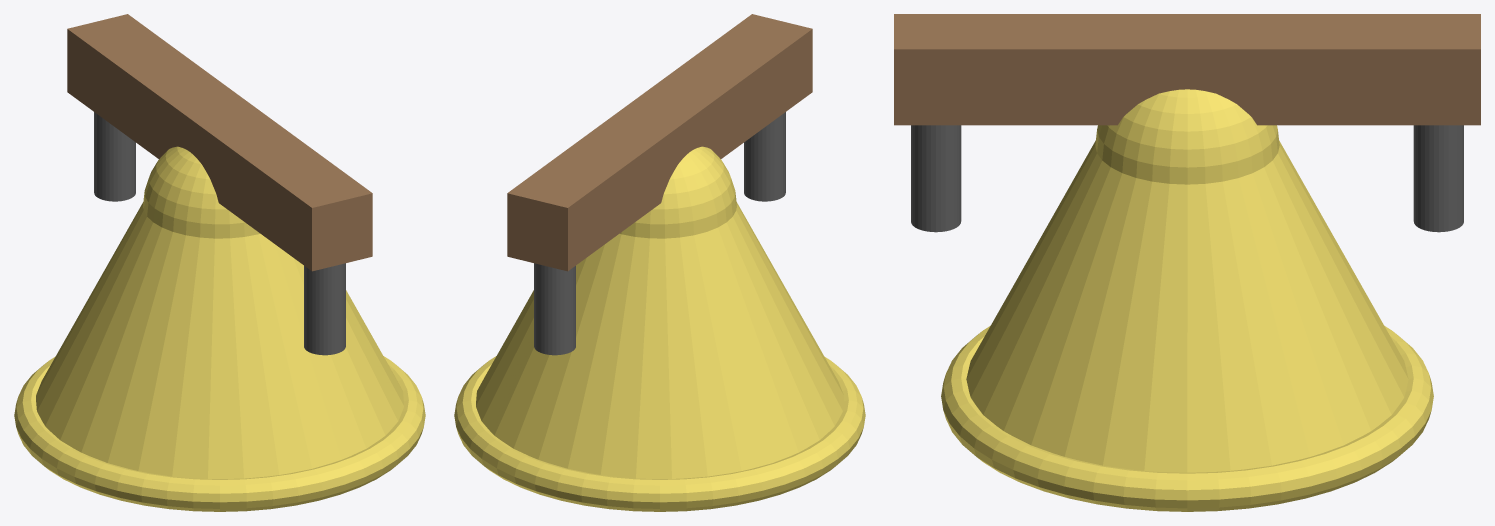
File: wielki_dzwon.fbx
3 renders of one model, left to right at view 1: azimuth 30°, elevation 25°; view 2: azimuth 150°, elevation 25°; view 3: azimuth 270°, elevation 25°, orthographic. The views are drawn at different scales.
Parts seen in each view (by area): view 1: CzaszaDzwonu, BelkaNosna, Cylinder, Cylinder.001; view 2: CzaszaDzwonu, BelkaNosna, Cylinder.001, Cylinder; view 3: CzaszaDzwonu, BelkaNosna, Cylinder, Cylinder.001.
Part boxes in pixels (x1=…): CzaszaDzwonu: x1=14, y1=146, x2=425, y2=511; BelkaNosna: x1=67, y1=14, x2=372, y2=271; Cylinder: x1=304, y1=263, x2=345, y2=355; Cylinder.001: x1=94, y1=112, x2=135, y2=201; CzaszaDzwonu: x1=454, y1=146, x2=865, y2=511; BelkaNosna: x1=507, y1=14, x2=812, y2=271; Cylinder.001: x1=534, y1=263, x2=575, y2=355; Cylinder: x1=744, y1=112, x2=785, y2=201; CzaszaDzwonu: x1=941, y1=89, x2=1433, y2=511; BelkaNosna: x1=894, y1=14, x2=1480, y2=125; Cylinder: x1=911, y1=125, x2=961, y2=232; Cylinder.001: x1=1413, y1=125, x2=1463, y2=232.
Bounding box in the file's own units: 2.94 × 2.65 × 3.5.
